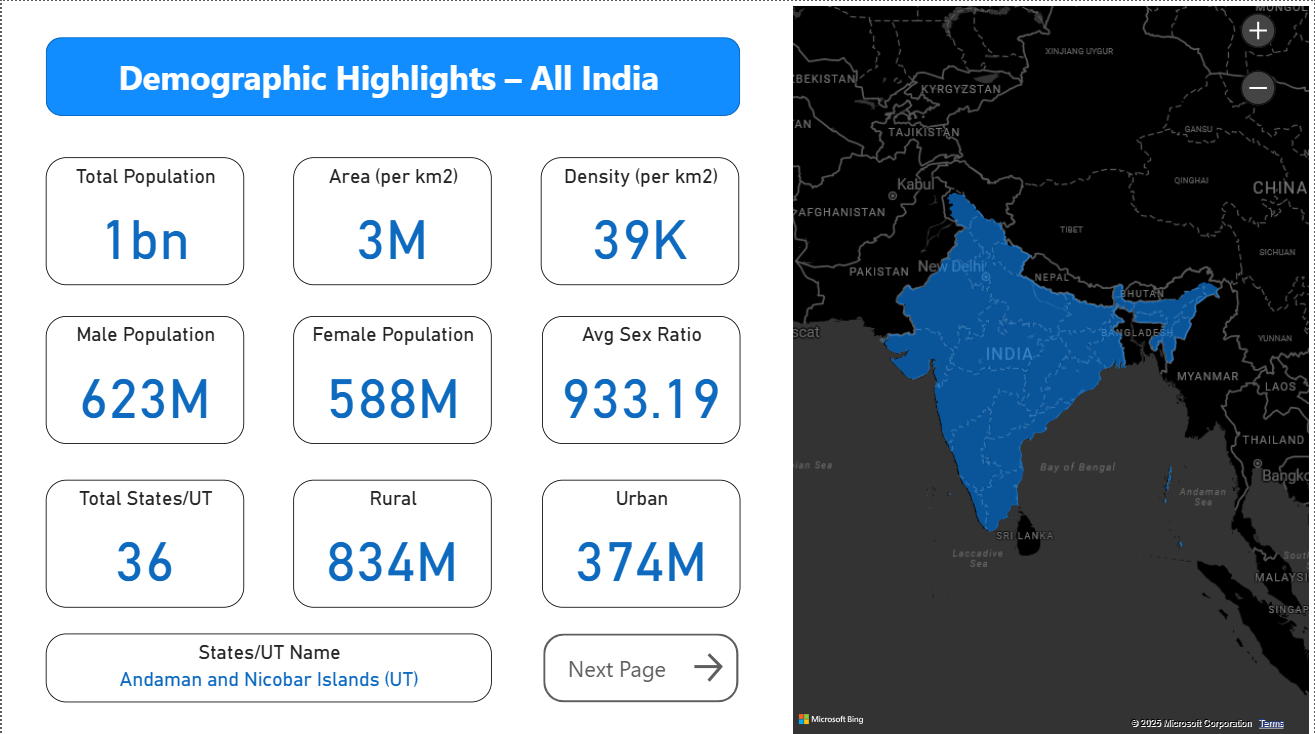

Layout of this report page (visuals, bound fields, positions):
{"tool":"powerbi","page":{"name":"Home","canvas":[1280,720],"ordinal":0},"visuals":[{"type":"filledMap","fields":{"Category":["Population of India.State/UT"]},"box":[767.1,0,513.2,720.4],"z":0},{"type":"card","title":"Male Population","fields":{"Values":["Sum(Population of India.Male)"]},"box":[42.5,307.4,193.5,124.9],"z":1000},{"type":"card","title":"Female Population","fields":{"Values":["Sum(Population of India.Female)"]},"box":[284,307.4,193.5,124.9],"z":2000},{"type":"card","title":"Avg Sex Ratio","fields":{"Values":["Avg(Population of India.Sex ratio)"]},"box":[526.9,307.4,193.5,124.9],"z":3000},{"type":"card","title":"Total Population","fields":{"Values":["Sum(Population of India.Population[50])"]},"box":[42.5,152.3,193.5,124.9],"z":4000},{"type":"card","title":"Density (per km2)","fields":{"Values":["Sum(Population of India.Density (per km2))"]},"box":[525.6,152.3,193.5,124.9],"z":5000},{"type":"card","title":"Area (per km2)","fields":{"Values":["Sum(Population of India.Area[52] (km2))"]},"box":[284,152.3,193.5,124.9],"z":6000},{"type":"card","title":"Total States/UT","fields":{"Values":["Count(Population of India.State/UT)"]},"box":[42.5,466.6,193.5,124.9],"z":7000},{"type":"card","title":"Rural","fields":{"Values":["Sum(Population of India.Rural[51])"]},"box":[284,466.6,193.5,124.9],"z":8000},{"type":"card","title":"Urban","fields":{"Values":["Sum(Population of India.Urban[51])"]},"box":[526.9,466.6,193.5,124.9],"z":9000},{"type":"shape","box":[42.5,35.7,677.9,76.8],"z":10000},{"type":"textbox","box":[108.4,48,546.1,52.1],"z":11000},{"type":"card","title":"States/UT Name","fields":{"Values":["Min(Population of India.State/UT)"]},"box":[42.5,617.5,435,67.5],"z":12000},{"type":"actionButton","box":[527.5,617.5,191.2,67.5],"z":13000}]}

Visuals, with their boxes in screenshot pixels (x1, y1, x2, y2), scaled from the page's 1280x720 canvas onto the 1315x734 screenshot:
filledMap - Population of India.State/UT: crop(788, 0, 1314, 733)
"Male Population" card: crop(44, 313, 242, 441)
"Female Population" card: crop(292, 313, 491, 441)
"Avg Sex Ratio" card: crop(541, 313, 740, 441)
"Total Population" card: crop(44, 155, 242, 283)
"Density (per km2)" card: crop(540, 155, 739, 283)
"Area (per km2)" card: crop(292, 155, 491, 283)
"Total States/UT" card: crop(44, 476, 242, 603)
"Rural" card: crop(292, 476, 491, 603)
"Urban" card: crop(541, 476, 740, 603)
shape: crop(44, 36, 740, 115)
textbox: crop(111, 49, 672, 102)
"States/UT Name" card: crop(44, 630, 491, 698)
actionButton: crop(542, 630, 738, 698)
